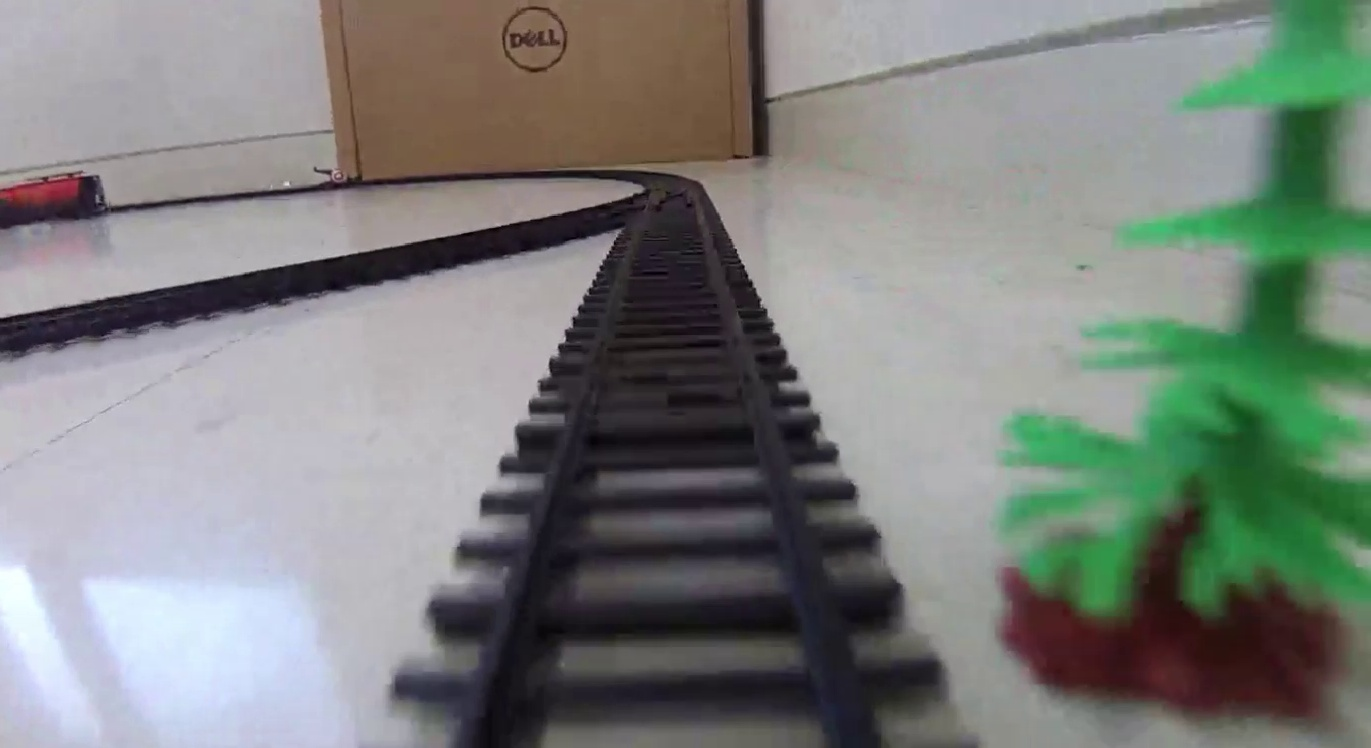tree: (1006, 1, 1371, 724)
